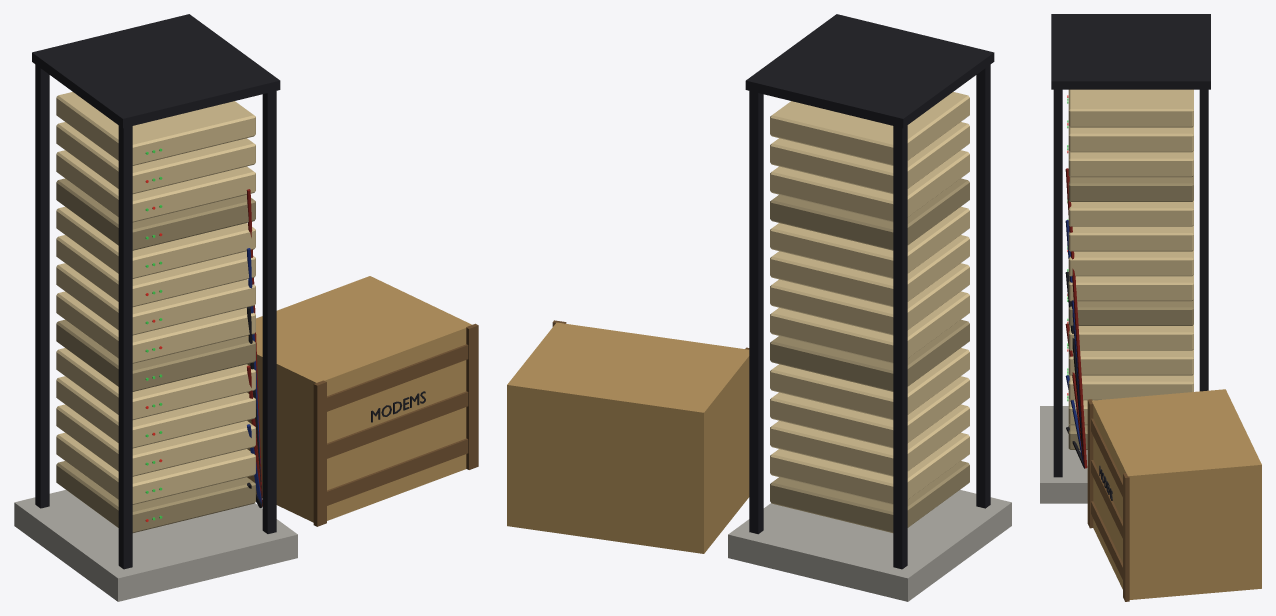
File: site.modem-bank.glb
The picture shows the model from 3 angles, left to right: view 1: azimuth 30°, elevation 25°; view 2: azimuth 150°, elevation 25°; view 3: azimuth 270°, elevation 25°; orthographic projection. The views are drawn at different scales.
Parts seen in each view (by area): view 1: spare-body, plinth, top, modem13, upright-1-1, upright1-1, upright-11, modem12, modem1, modem3, modem11, modem0 (+13 smaller); view 2: spare-body, plinth, top, modem13, upright-11, upright11, upright-1-1, modem10, modem6, modem1, modem5, modem9 (+8 smaller); view 3: spare-body, top, modem13, upright1-1, modem11, modem12, modem8, modem7, plinth, modem6, modem10, modem9 (+14 smaller).
Boxes of the visible parts, bbox=[...] form: spare-body: bbox=[247, 276, 471, 522]; plinth: bbox=[14, 490, 297, 601]; top: bbox=[32, 14, 280, 128]; modem13: bbox=[56, 92, 255, 165]; upright-1-1: bbox=[118, 125, 132, 569]; upright1-1: bbox=[262, 91, 276, 533]; upright-11: bbox=[35, 64, 49, 508]; modem12: bbox=[56, 122, 255, 193]; modem1: bbox=[56, 432, 255, 504]; modem3: bbox=[56, 376, 255, 448]; modem11: bbox=[56, 150, 255, 222]; modem0: bbox=[56, 461, 255, 532]; spare-body: bbox=[507, 322, 749, 553]; plinth: bbox=[728, 490, 1011, 601]; top: bbox=[745, 14, 994, 128]; modem13: bbox=[770, 92, 969, 165]; upright-11: bbox=[893, 125, 907, 569]; upright11: bbox=[749, 91, 763, 534]; upright-1-1: bbox=[976, 64, 990, 508]; modem10: bbox=[770, 178, 969, 250]; modem6: bbox=[770, 291, 969, 363]; modem1: bbox=[770, 432, 969, 504]; modem5: bbox=[770, 319, 969, 391]; modem9: bbox=[770, 206, 969, 278]; spare-body: bbox=[1092, 389, 1261, 599]; top: bbox=[1051, 14, 1210, 89]; modem13: bbox=[1068, 89, 1193, 127]; upright1-1: bbox=[1053, 89, 1062, 477]; modem11: bbox=[1068, 151, 1193, 177]; modem12: bbox=[1068, 126, 1193, 152]; modem8: bbox=[1068, 225, 1193, 251]; modem7: bbox=[1068, 250, 1193, 276]; plinth: bbox=[1040, 406, 1087, 503]; modem6: bbox=[1068, 275, 1193, 301]; modem10: bbox=[1068, 176, 1193, 201]; modem9: bbox=[1068, 200, 1193, 226].
Size of the model in its own units: 1.82 by 2.02 by 0.9735.
